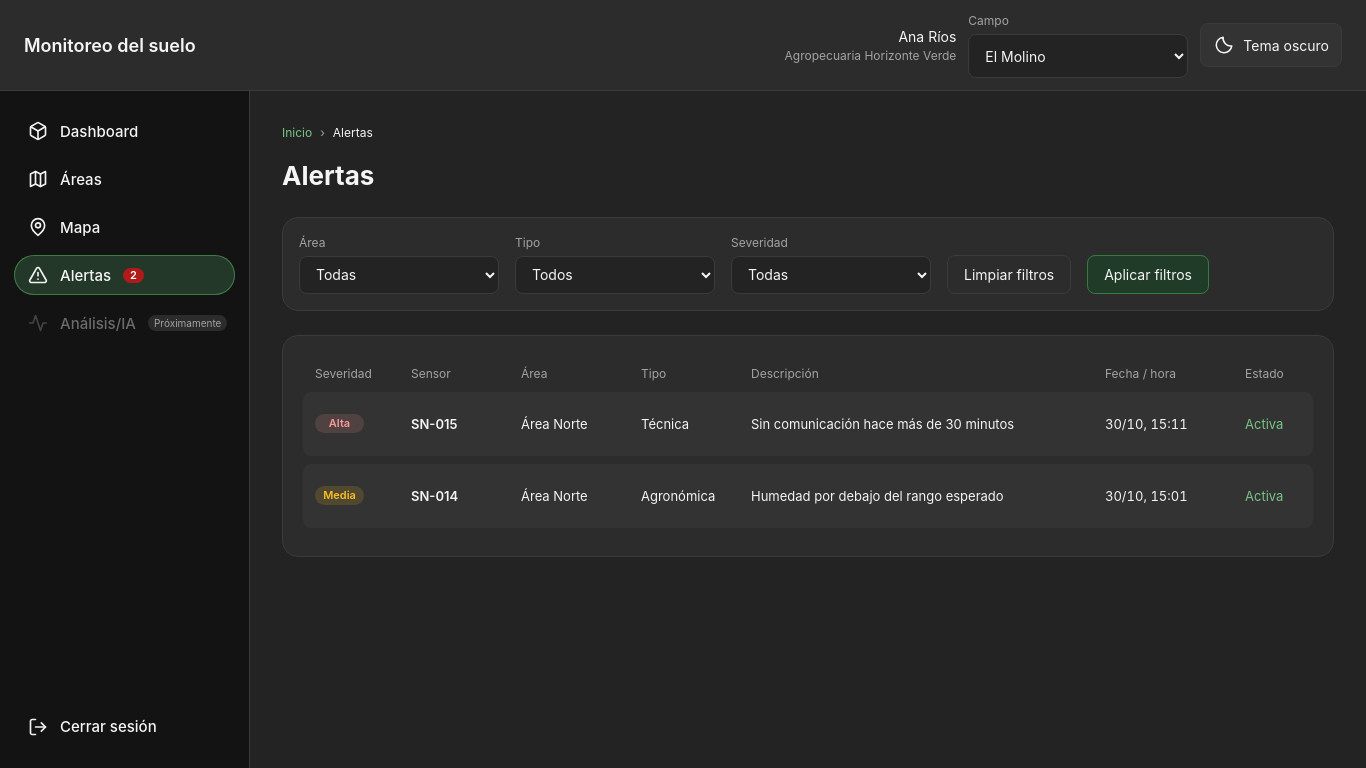
Test: Mapa, Alertas y contador con campo e identidad reales › Alertas consulta las áreas del campo y conserva la aplicación de filtros
Expected: the link "SN-015" is shown, [411,416,457,432]
Expected: the text named "2 activas" is shown, [123,268,144,282]
Step 1. Select "Alta" in the dropdown labelled "Severidad" → (831, 275), box [731,256,931,294]
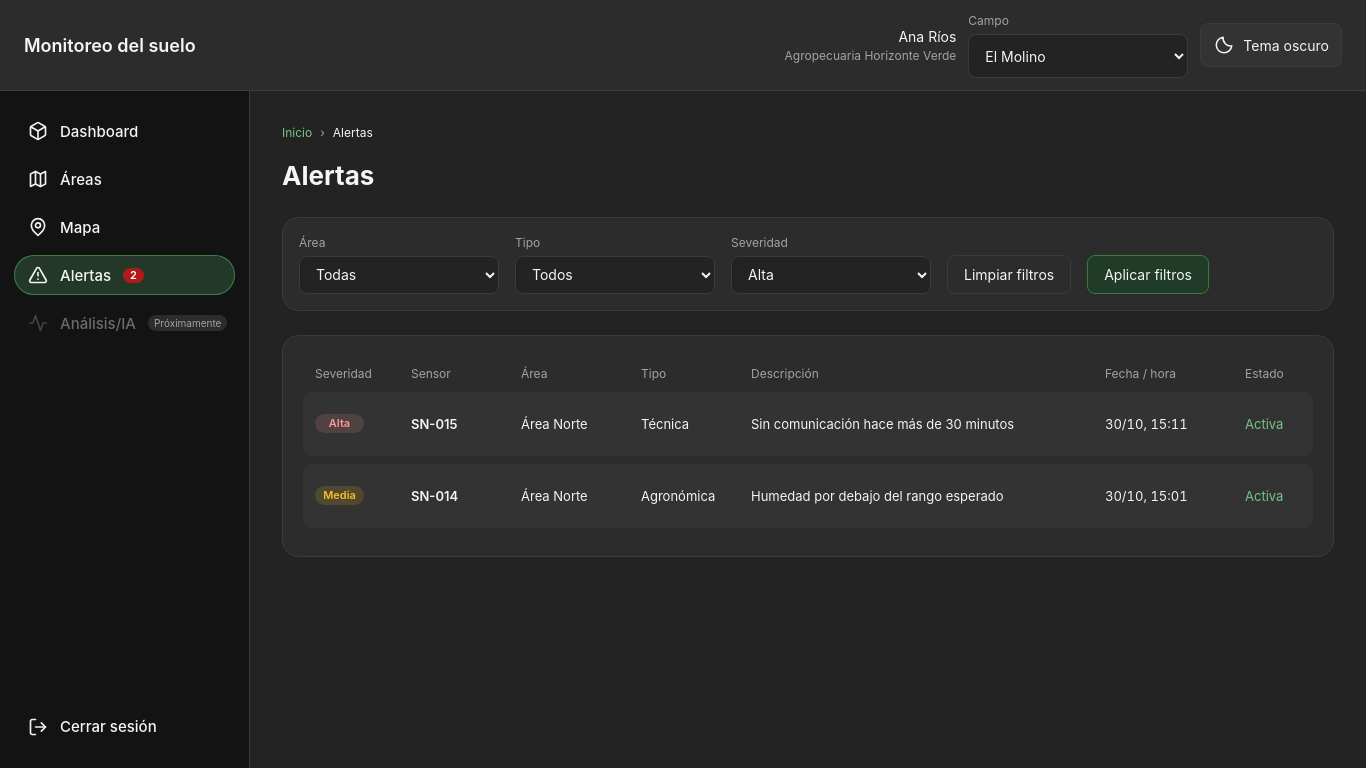
Step 2. Click the button "Aplicar filtros" → (1148, 274), box [1087,255,1209,294]
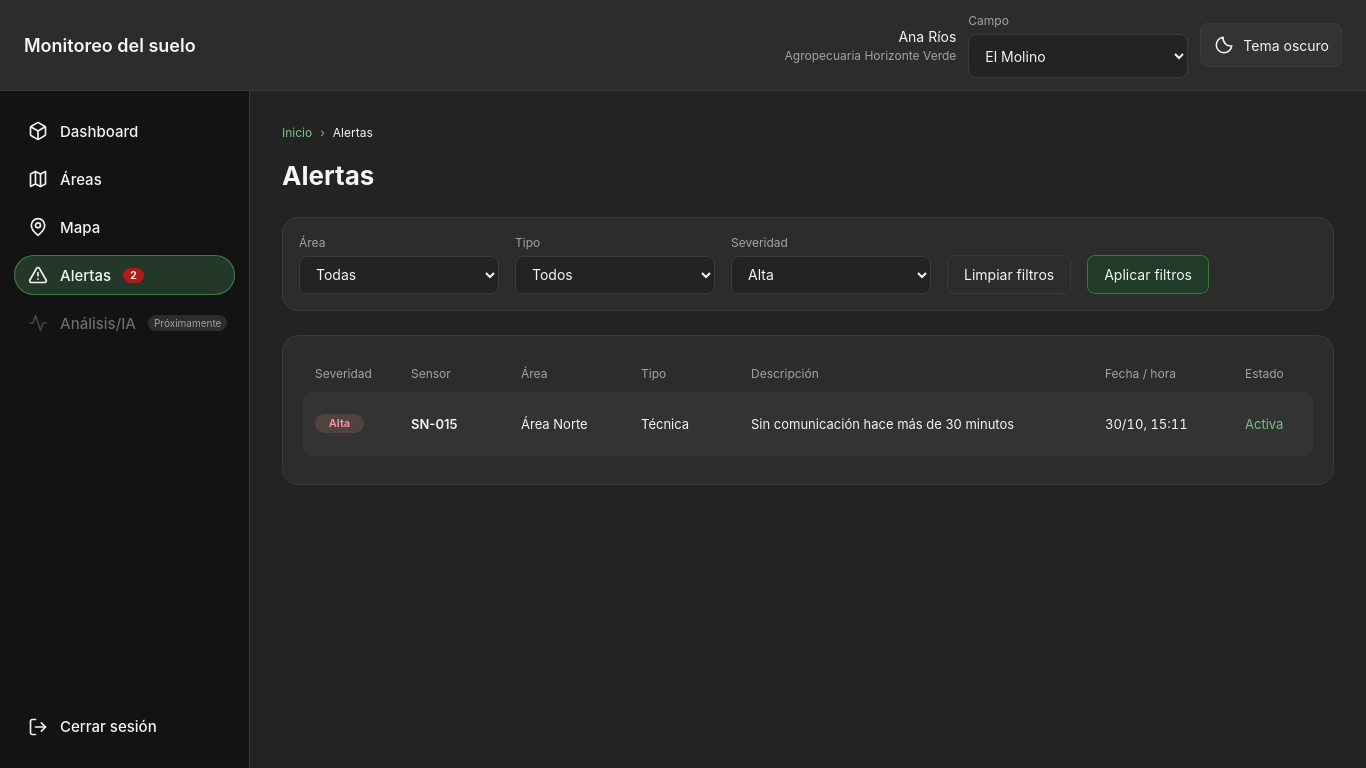
Expected: the link "SN-015" is shown, [411,416,457,432]
Expected: the text named "2 activas" is shown, [123,268,144,282]
Step 3. Select "La Esperanza" in the dropdown labelled "Campo" → (1078, 56), box [968,34,1188,78]
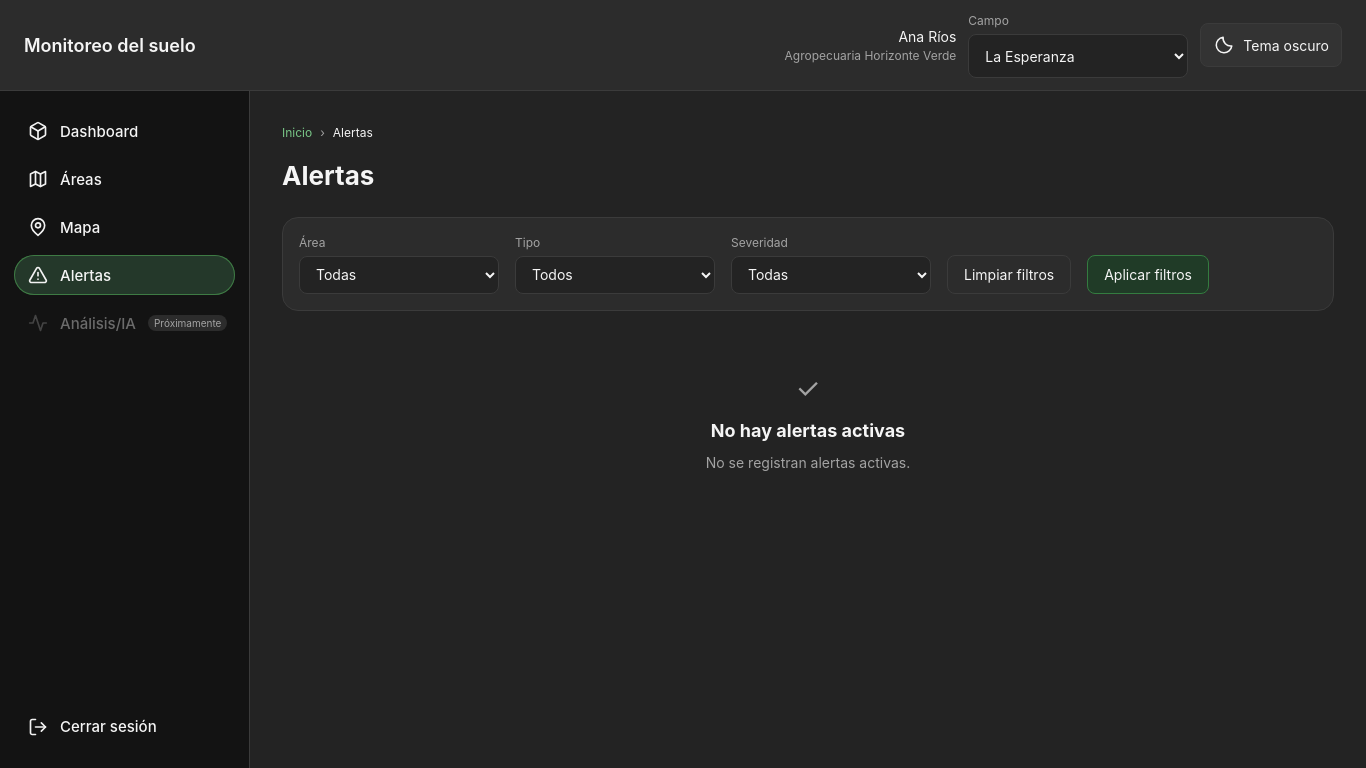
Result: the heading "No hay alertas activas" is shown at [711,417,905,444]
Result: the dropdown labelled "Severidad" shows "Todas" at [731,256,931,294]
